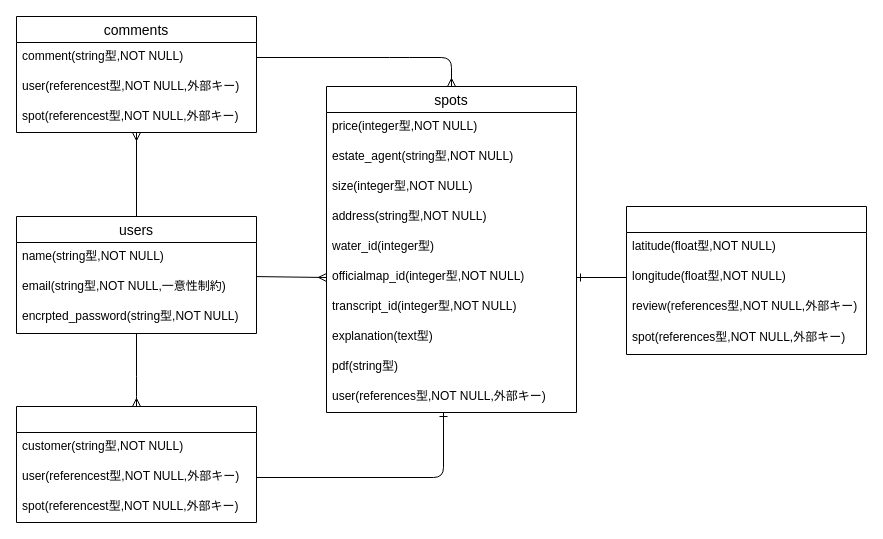
This 883x539 diagram has some shape labels left out. The shapes that lost their labels are listed below. From the top down, each one's box as (x1, y1, x2, y2) in pixels, then its label:
(626, 206, 866, 354): maps
(16, 406, 256, 522): orders
